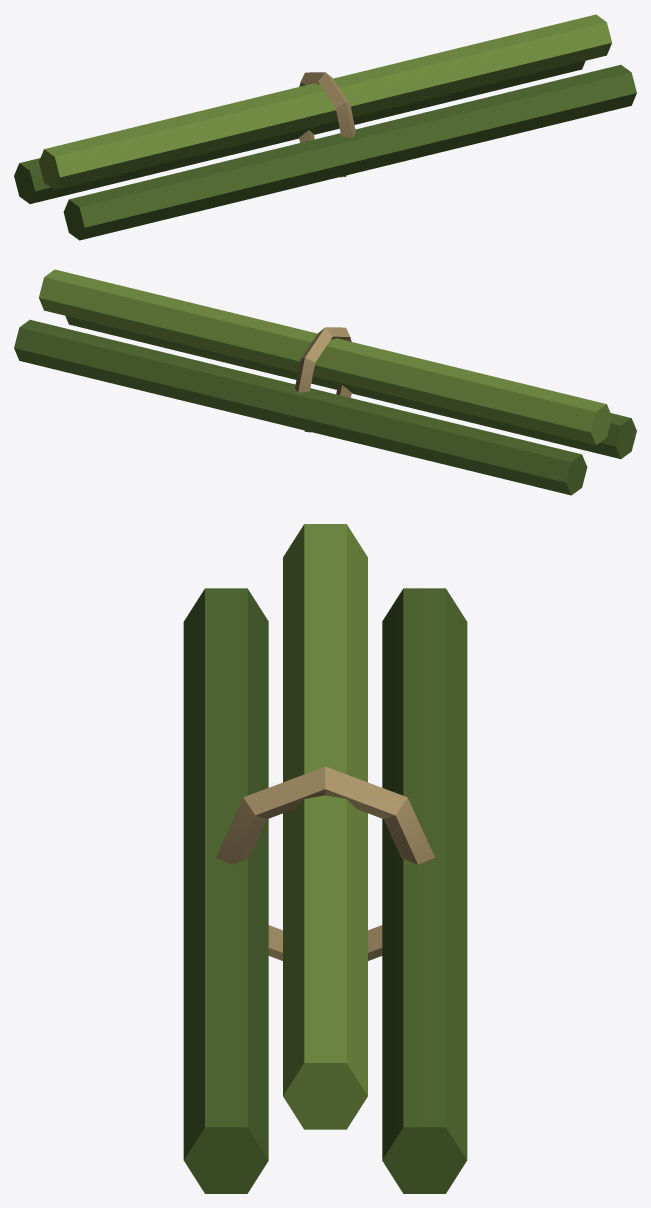
The model's file is BambooItem.fbx.
The picture shows the model from 3 angles, top to bottom: view 1: azimuth 30°, elevation 25°; view 2: azimuth 150°, elevation 25°; view 3: azimuth 270°, elevation 25°; orthographic projection. The views are drawn at different scales.
Visible parts, largest first — view 1: BambooItem; view 2: BambooItem; view 3: BambooItem.
Boxes of the visible parts, x1,y1,x2,y2 form: BambooItem: (14, 14, 636, 240); BambooItem: (14, 269, 636, 495); BambooItem: (183, 524, 467, 1193).
Size of the model in its own units: 0.9 by 0.164 by 0.2.
